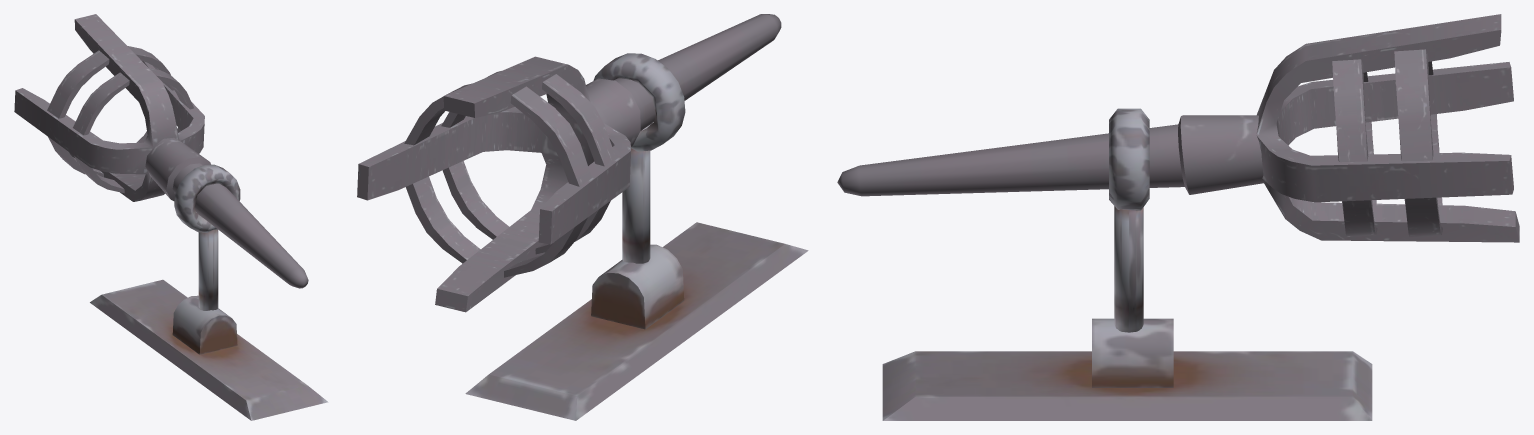
Rendered from fp-torch-metal-lod1.glb.
3 renders of one model, left to right at view 1: azimuth 30°, elevation 25°; view 2: azimuth 150°, elevation 25°; view 3: azimuth 270°, elevation 25°, orthographic. The views are drawn at different scales.
Parts seen in each view (by area): view 1: WeaponMesh_fp-torch-metal_Torch_Metal; view 2: WeaponMesh_fp-torch-metal_Torch_Metal; view 3: WeaponMesh_fp-torch-metal_Torch_Metal.
Part boxes in pixels (x1,y1,x2,y2): WeaponMesh_fp-torch-metal_Torch_Metal: [14, 14, 328, 420]; WeaponMesh_fp-torch-metal_Torch_Metal: [357, 14, 808, 420]; WeaponMesh_fp-torch-metal_Torch_Metal: [837, 14, 1519, 420].
Bounding box in the file's own units: 0.4476 × 0.779 × 1.3.
Materials: 1 (1 with a texture image).
